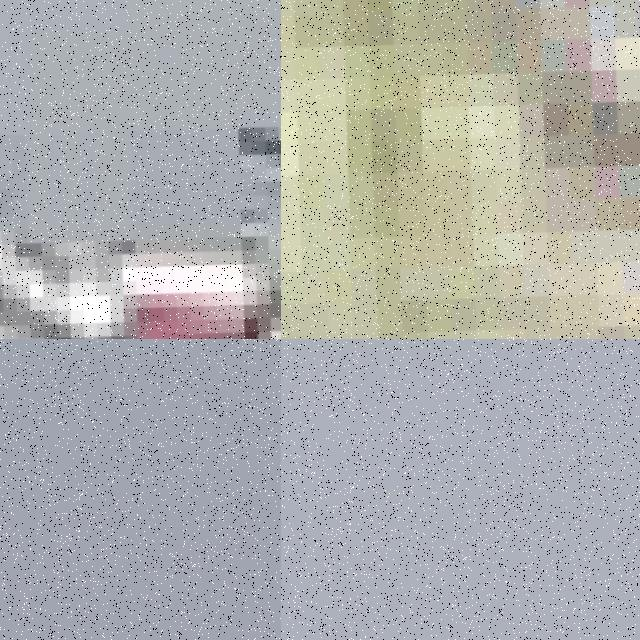0: (0, 0, 281, 339)
drone: (281, 0, 640, 339)
